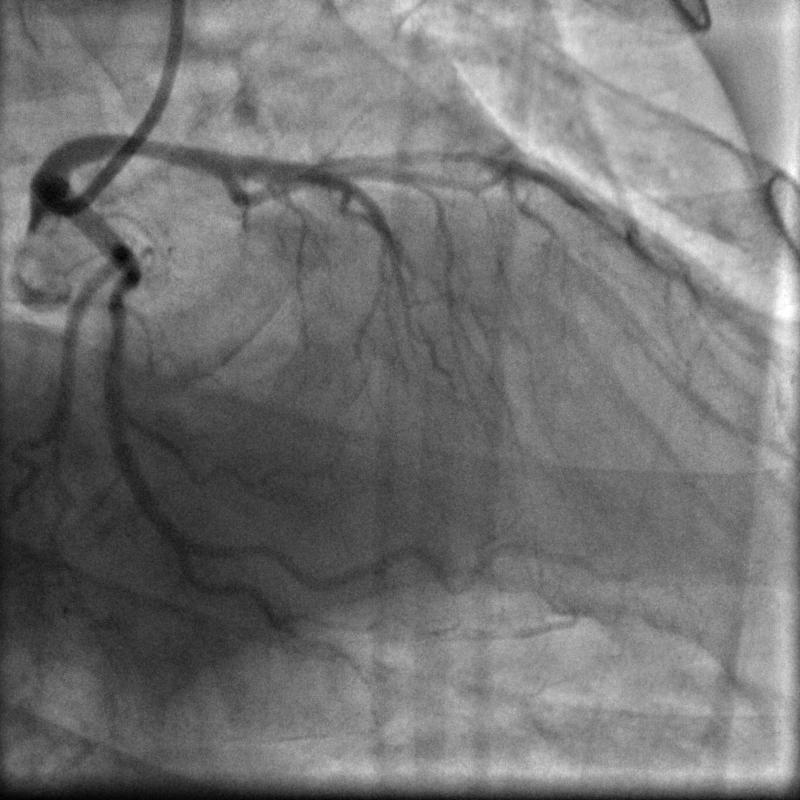Stenosis: (108, 266, 140, 333)
